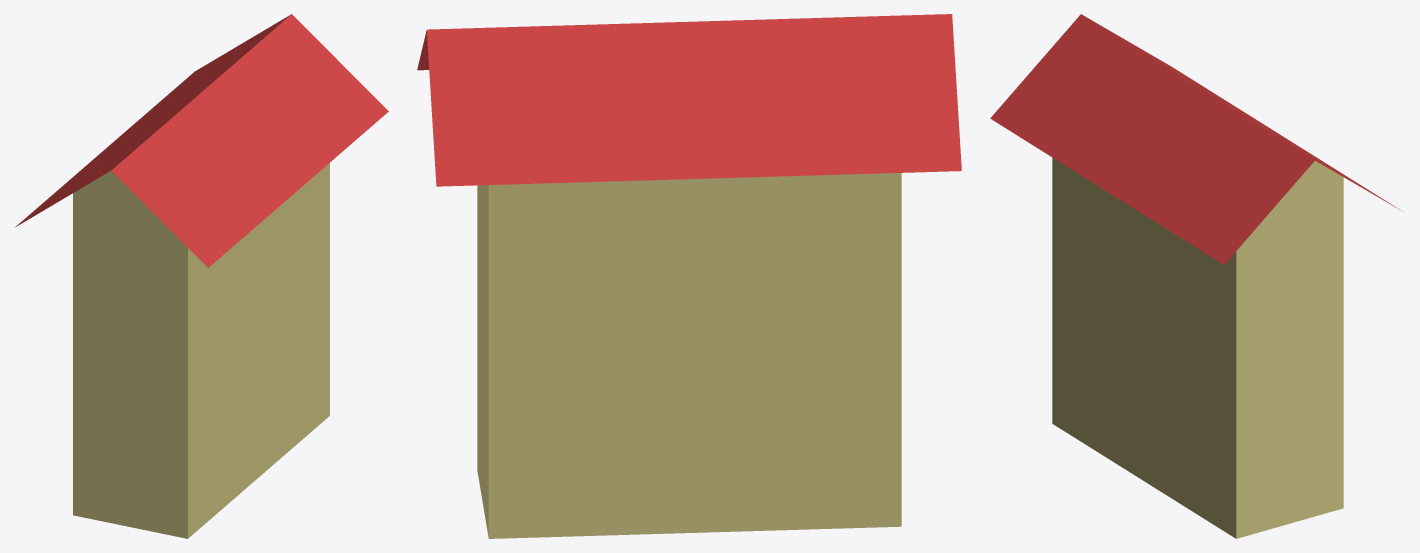
3 views of the same model, side by side, from view 1: azimuth 30°, elevation 25°; view 2: azimuth 150°, elevation 25°; view 3: azimuth 270°, elevation 25° (orthographic). The views are drawn at different scales.
Size of the model in its own units: 7.86 by 6.96 by 6.99.
